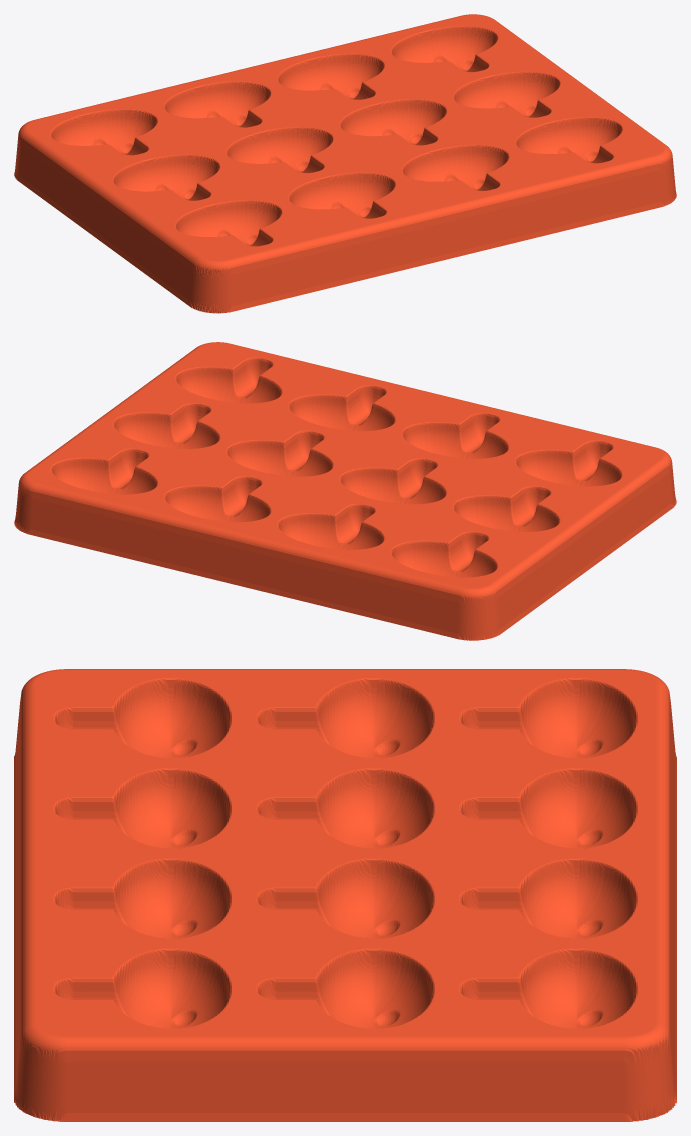
The model's file is mold.glb.
The picture shows the model from 3 angles, top to bottom: view 1: azimuth 30°, elevation 25°; view 2: azimuth 150°, elevation 25°; view 3: azimuth 270°, elevation 25°; orthographic projection. The views are drawn at different scales.
Parts seen in each view (by area): view 1: geometry_0; view 2: geometry_0; view 3: geometry_0.
Part boxes in pixels (x1,y1,x2,y2): geometry_0: [14, 14, 676, 313]; geometry_0: [14, 342, 676, 640]; geometry_0: [14, 669, 676, 1121].
Bounding box in the file's own units: 0.1558 × 0.0145 × 0.1137.
